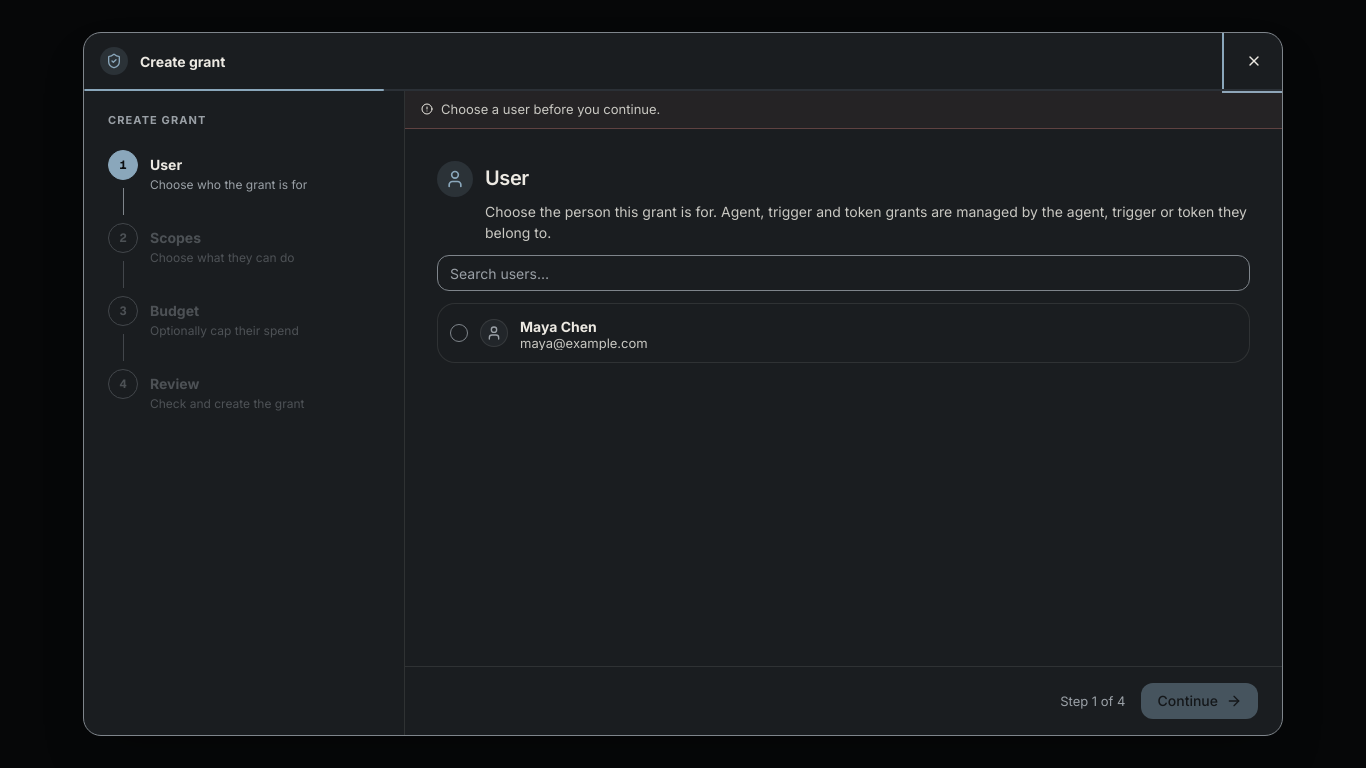
Scenario: CreateGrantWizard › holds Continue with spend on but empty
The image size is (1366, 768).
Click the radio button named "Maya Chen" at (459, 333), box [450,324,468,342]
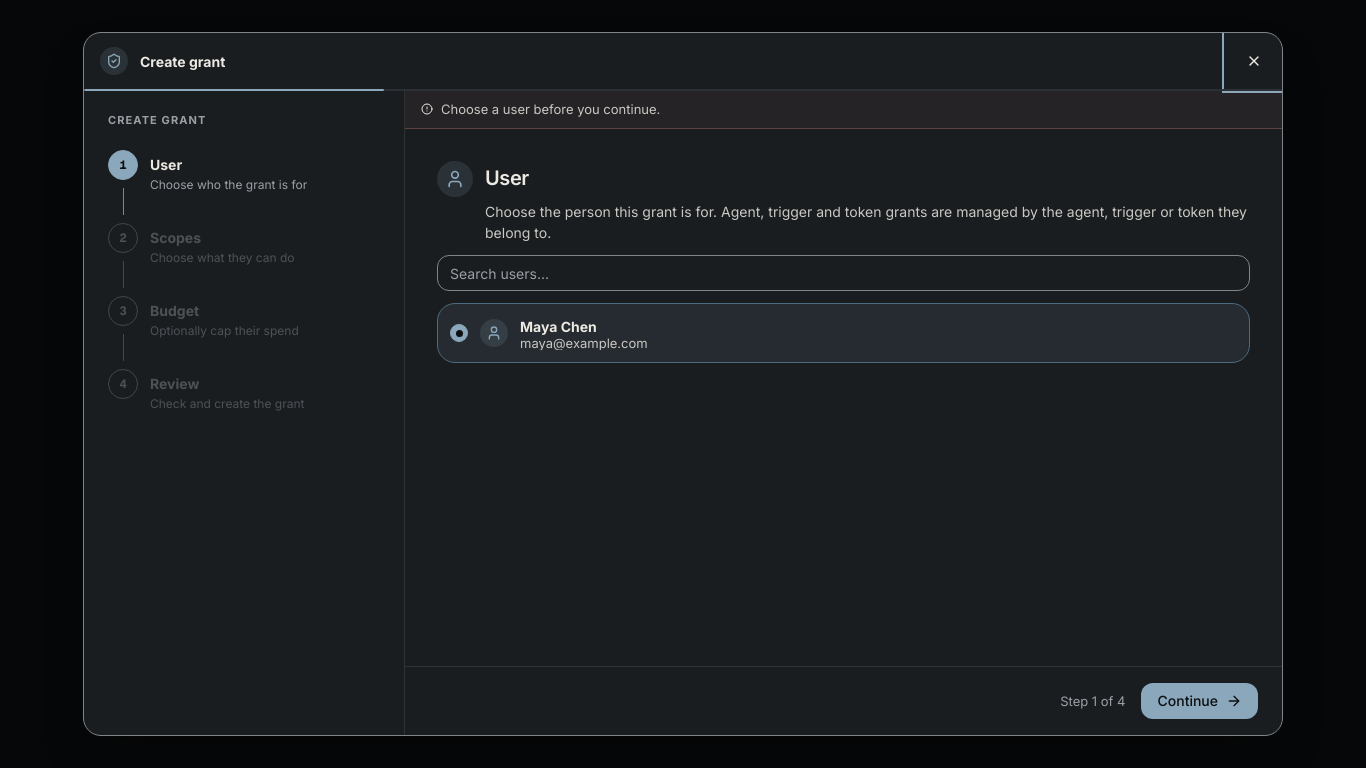
Click the button "Continue" at (1200, 701), box [1142,683,1258,719]
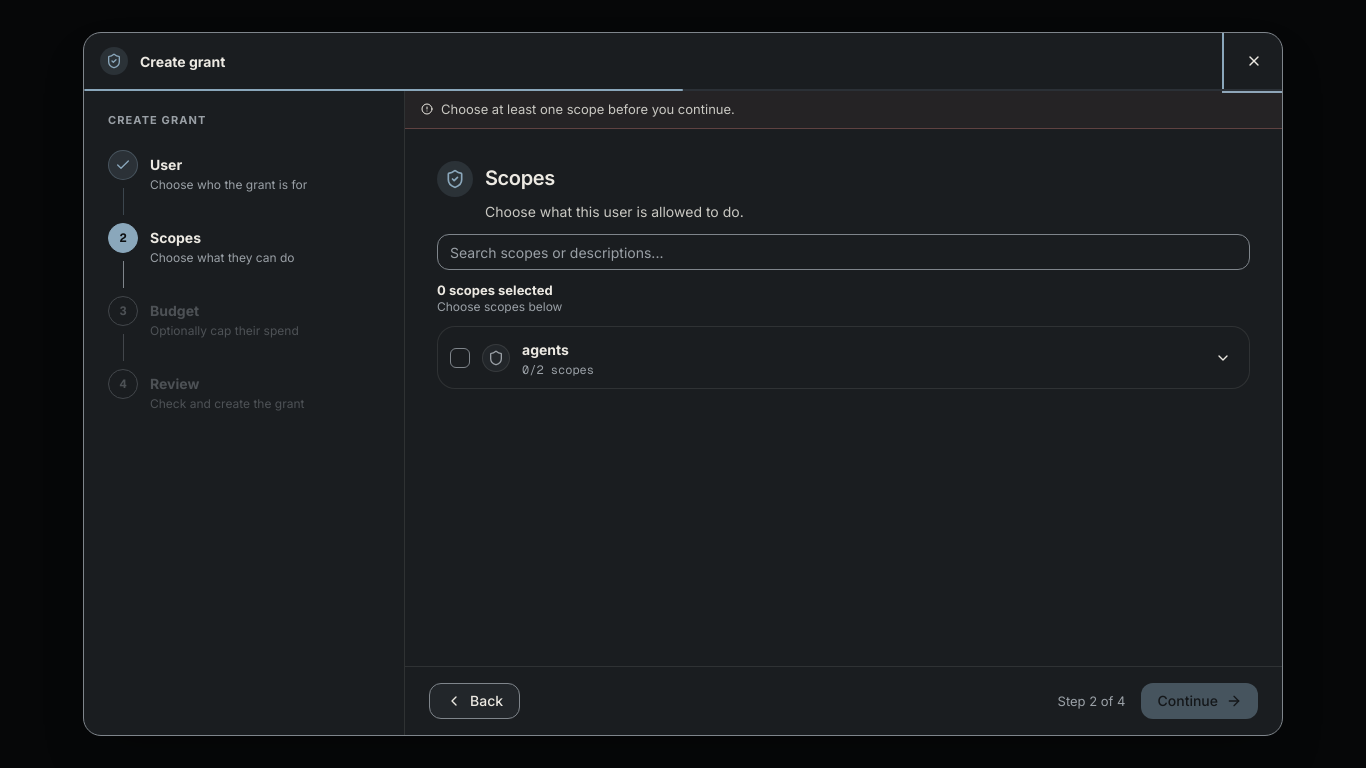
Click the checkbox at (460, 358), box [450,348,470,368]
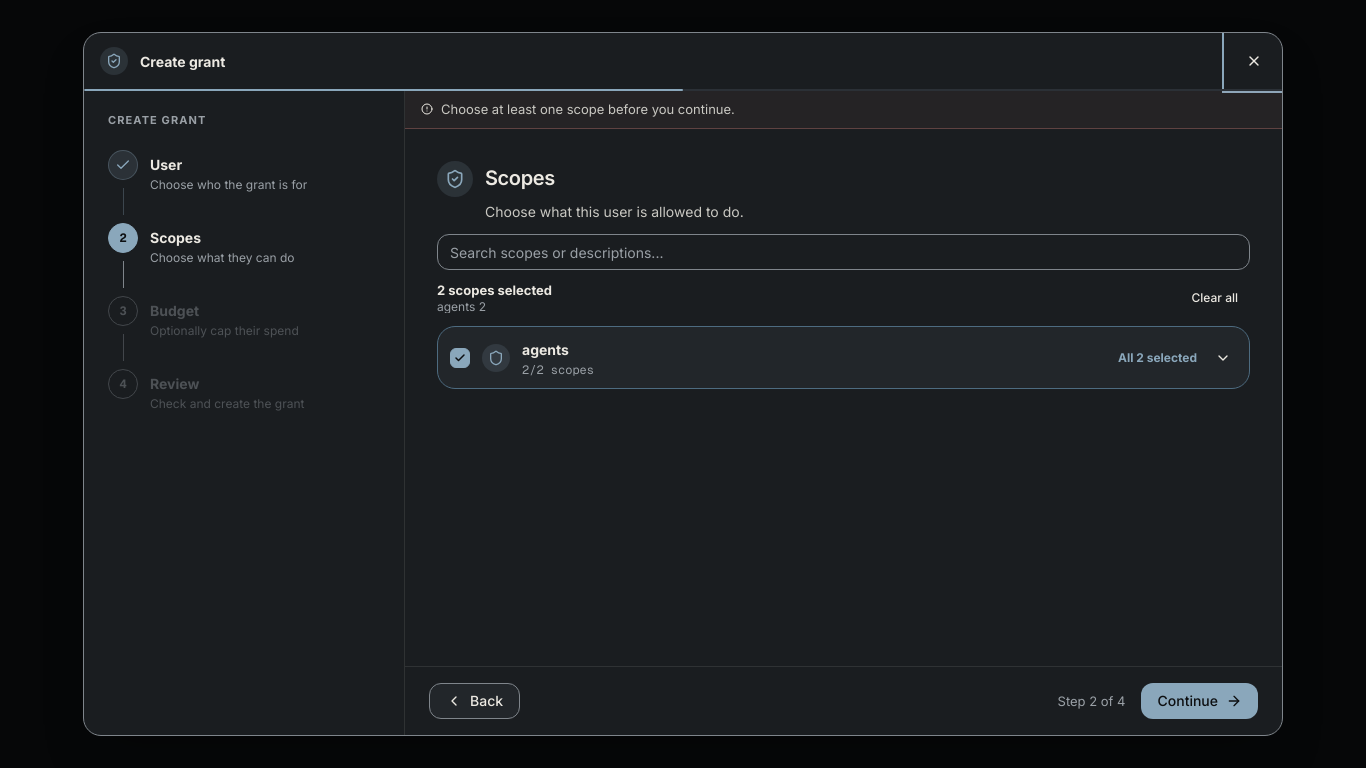
Click the button "Continue" at (1200, 701), box [1142,683,1258,719]
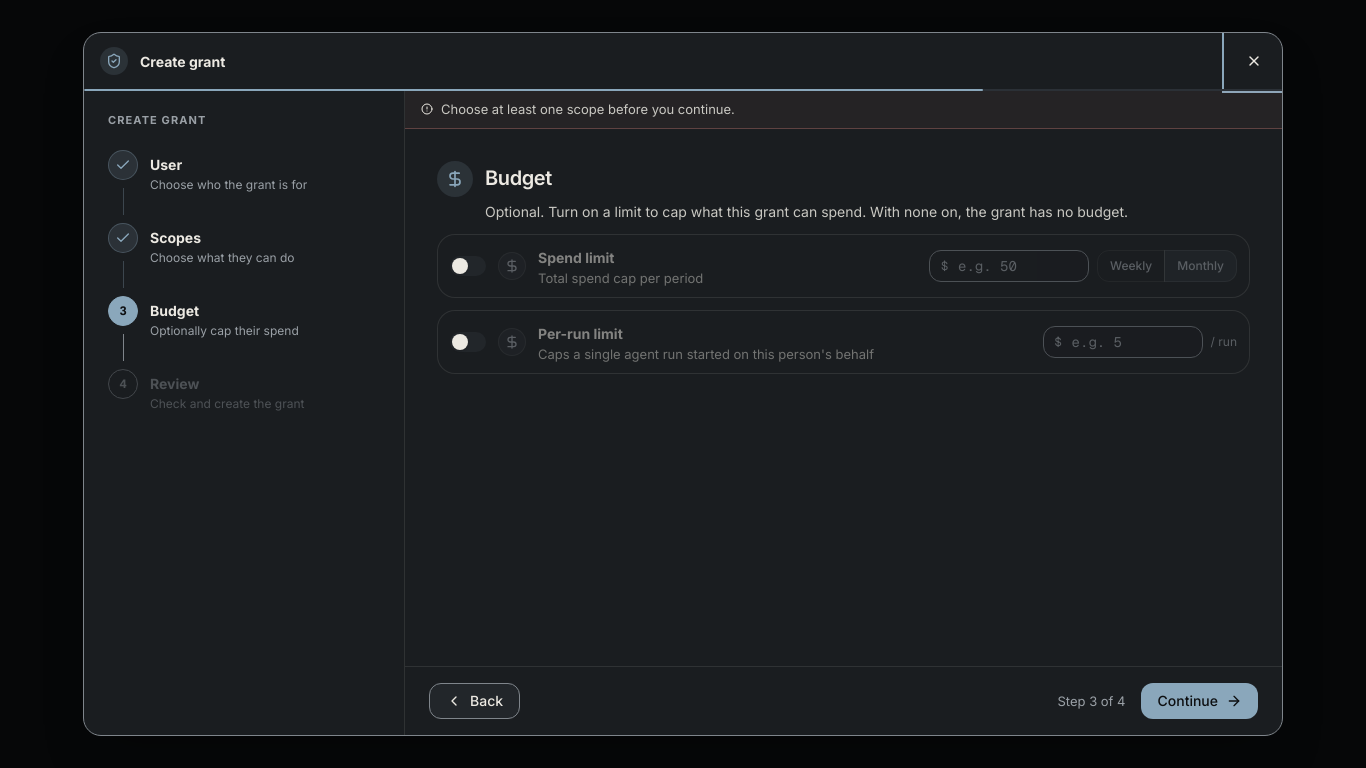
Click the switch named "Spend limit" at (468, 266), box [450,256,486,276]
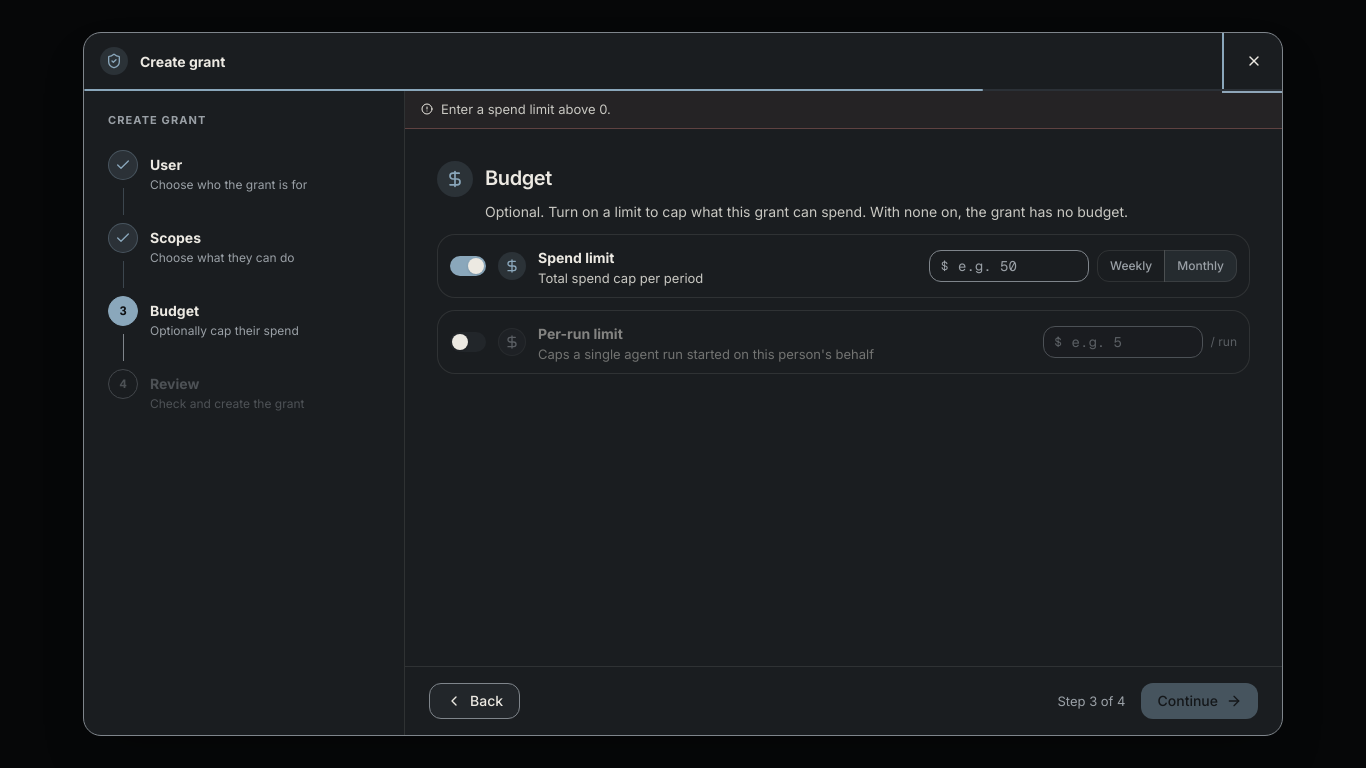
Expected: the button "Continue" is disabled, [1142,683,1258,719]
